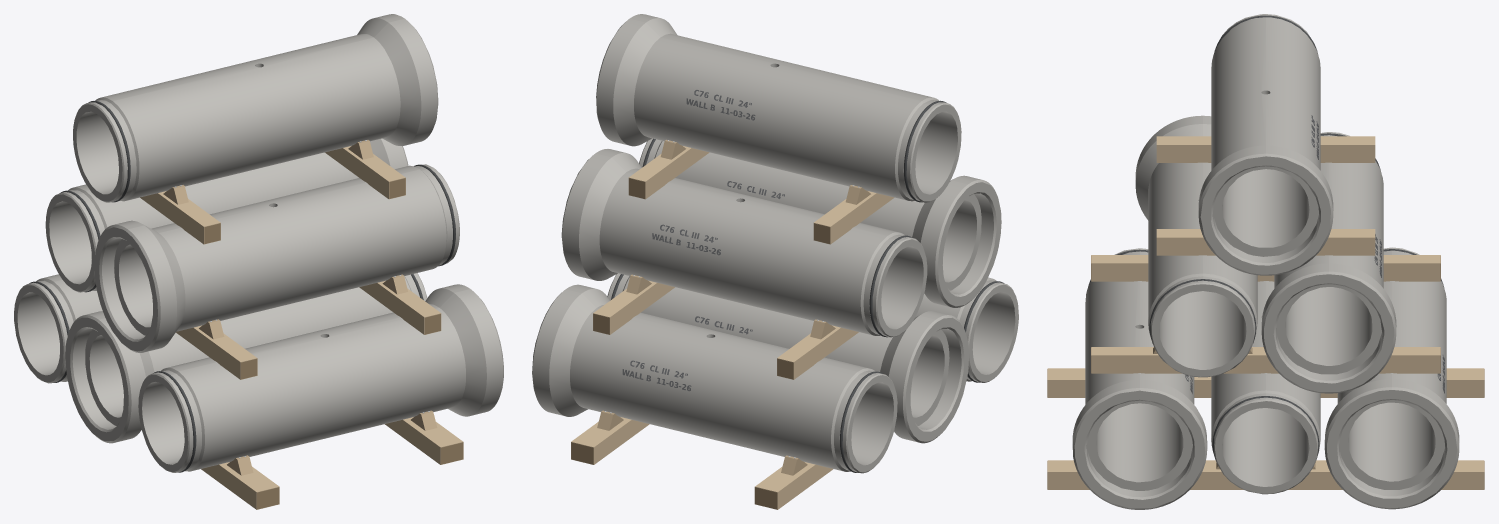
File: rcp-pipe-stack-24in.glb
3 renders of one model, left to right at view 1: azimuth 30°, elevation 25°; view 2: azimuth 150°, elevation 25°; view 3: azimuth 270°, elevation 25°, orthographic. The views are drawn at different scales.
Visible parts, largest first — view 1: pipe_1a, skids, wedge_chocks, timber_end_grain, gasket_1a; view 2: pipe_1a, skids, wedge_chocks, timber_end_grain, marking_1a, gasket_1a; view 3: pipe_1a, skids, gasket_1a, marking_1a.
Part boxes in pixels (x1,y1,x2,y2): pipe_1a: (14, 14, 503, 472); skids: (140, 146, 463, 509); wedge_chocks: (163, 140, 437, 475); timber_end_grain: (204, 178, 463, 509); gasket_1a: (29, 101, 455, 472); pipe_1a: (532, 14, 1018, 473); skids: (571, 146, 894, 509); wedge_chocks: (597, 139, 870, 475); timber_end_grain: (571, 178, 830, 509); marking_1a: (622, 90, 784, 391); gasket_1a: (611, 100, 1004, 472); pipe_1a: (1072, 14, 1459, 509); skids: (1047, 136, 1484, 489); gasket_1a: (1088, 15, 1444, 467); marking_1a: (1185, 115, 1444, 393).
Size of the model in its own units: 2.61 by 2.77 by 3.05.
